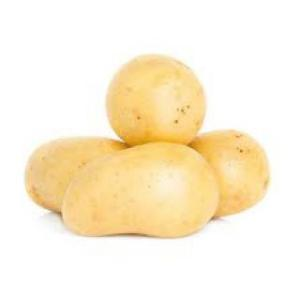potato: (64, 144, 218, 238), (106, 54, 208, 144), (24, 137, 128, 213), (188, 130, 270, 218)
